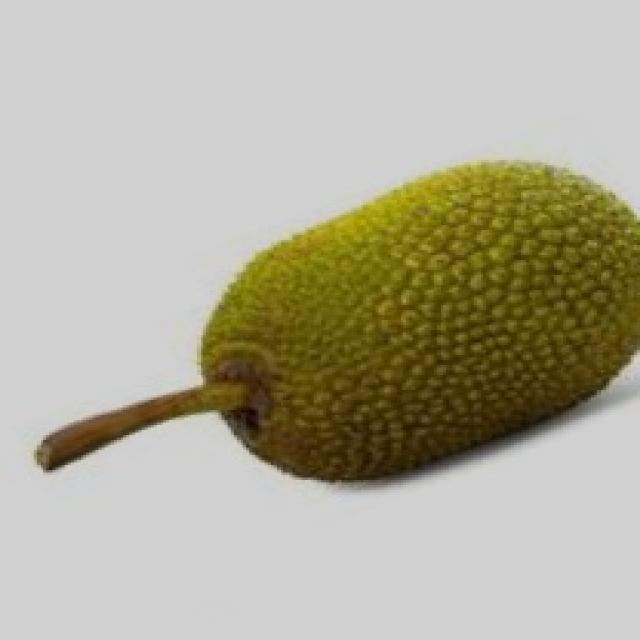Fruit: (209, 140, 637, 502)
